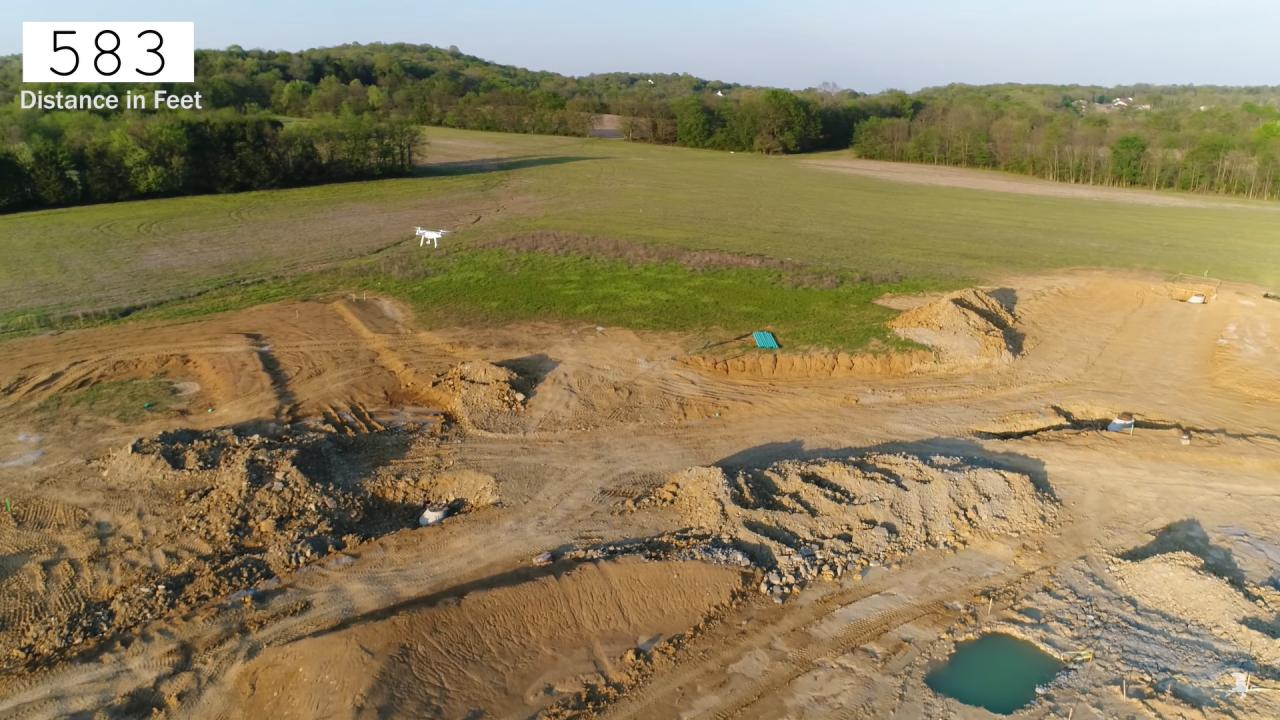Drone: (405, 218, 455, 256)
